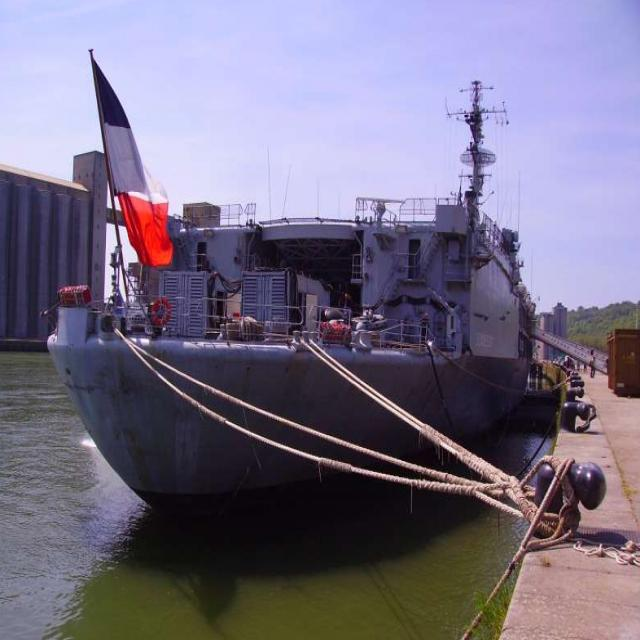Portanaves: (34, 48, 549, 535)
